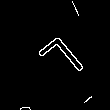L_SE: (36, 33, 93, 92)
